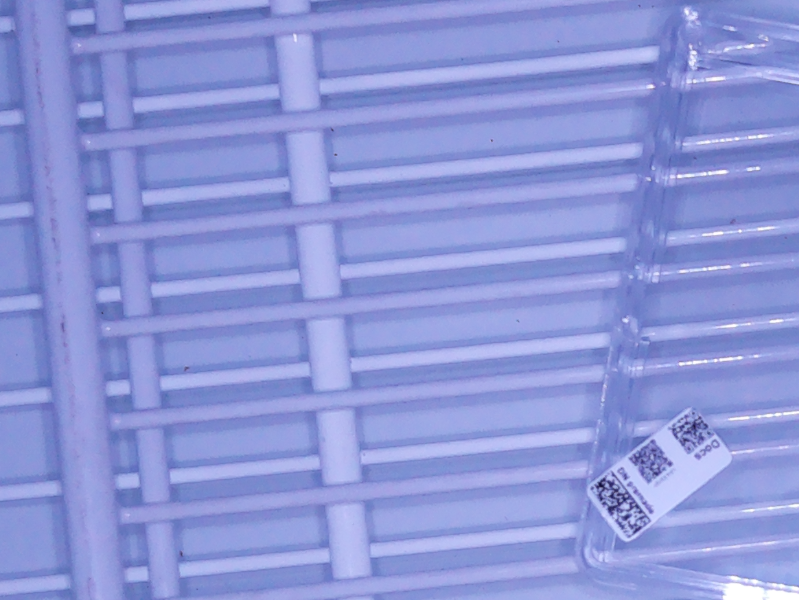plate: (577, 9, 799, 599)
